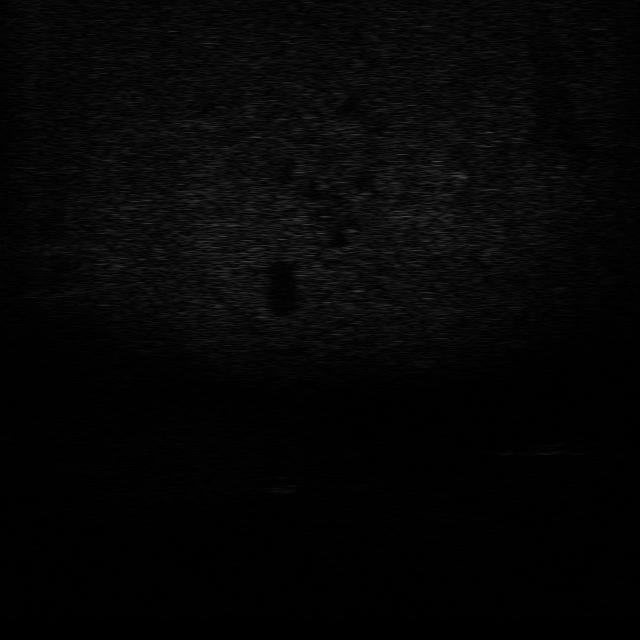ball: (260, 474, 302, 496)
human body: (496, 431, 592, 458)
